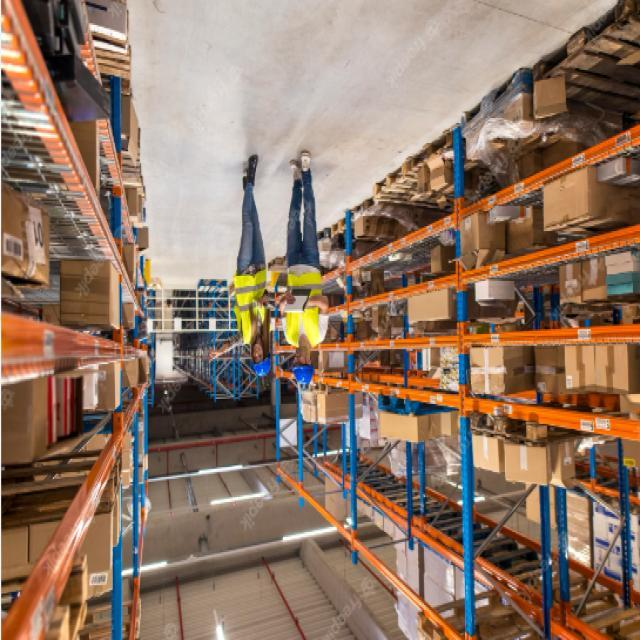boots: (240, 153, 259, 191)
helmet: (291, 346, 316, 387), (249, 339, 273, 378)
vest: (283, 270, 326, 347), (232, 269, 272, 345)
